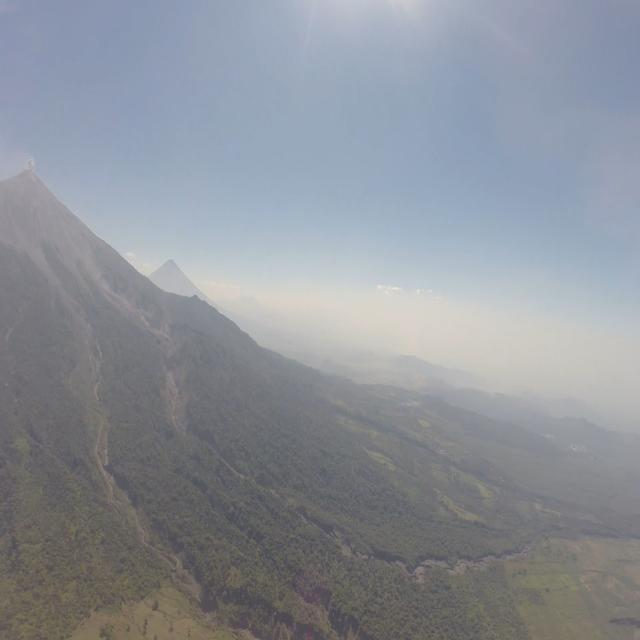Plume: (26, 158, 34, 174)
Summit: (16, 166, 46, 190)
